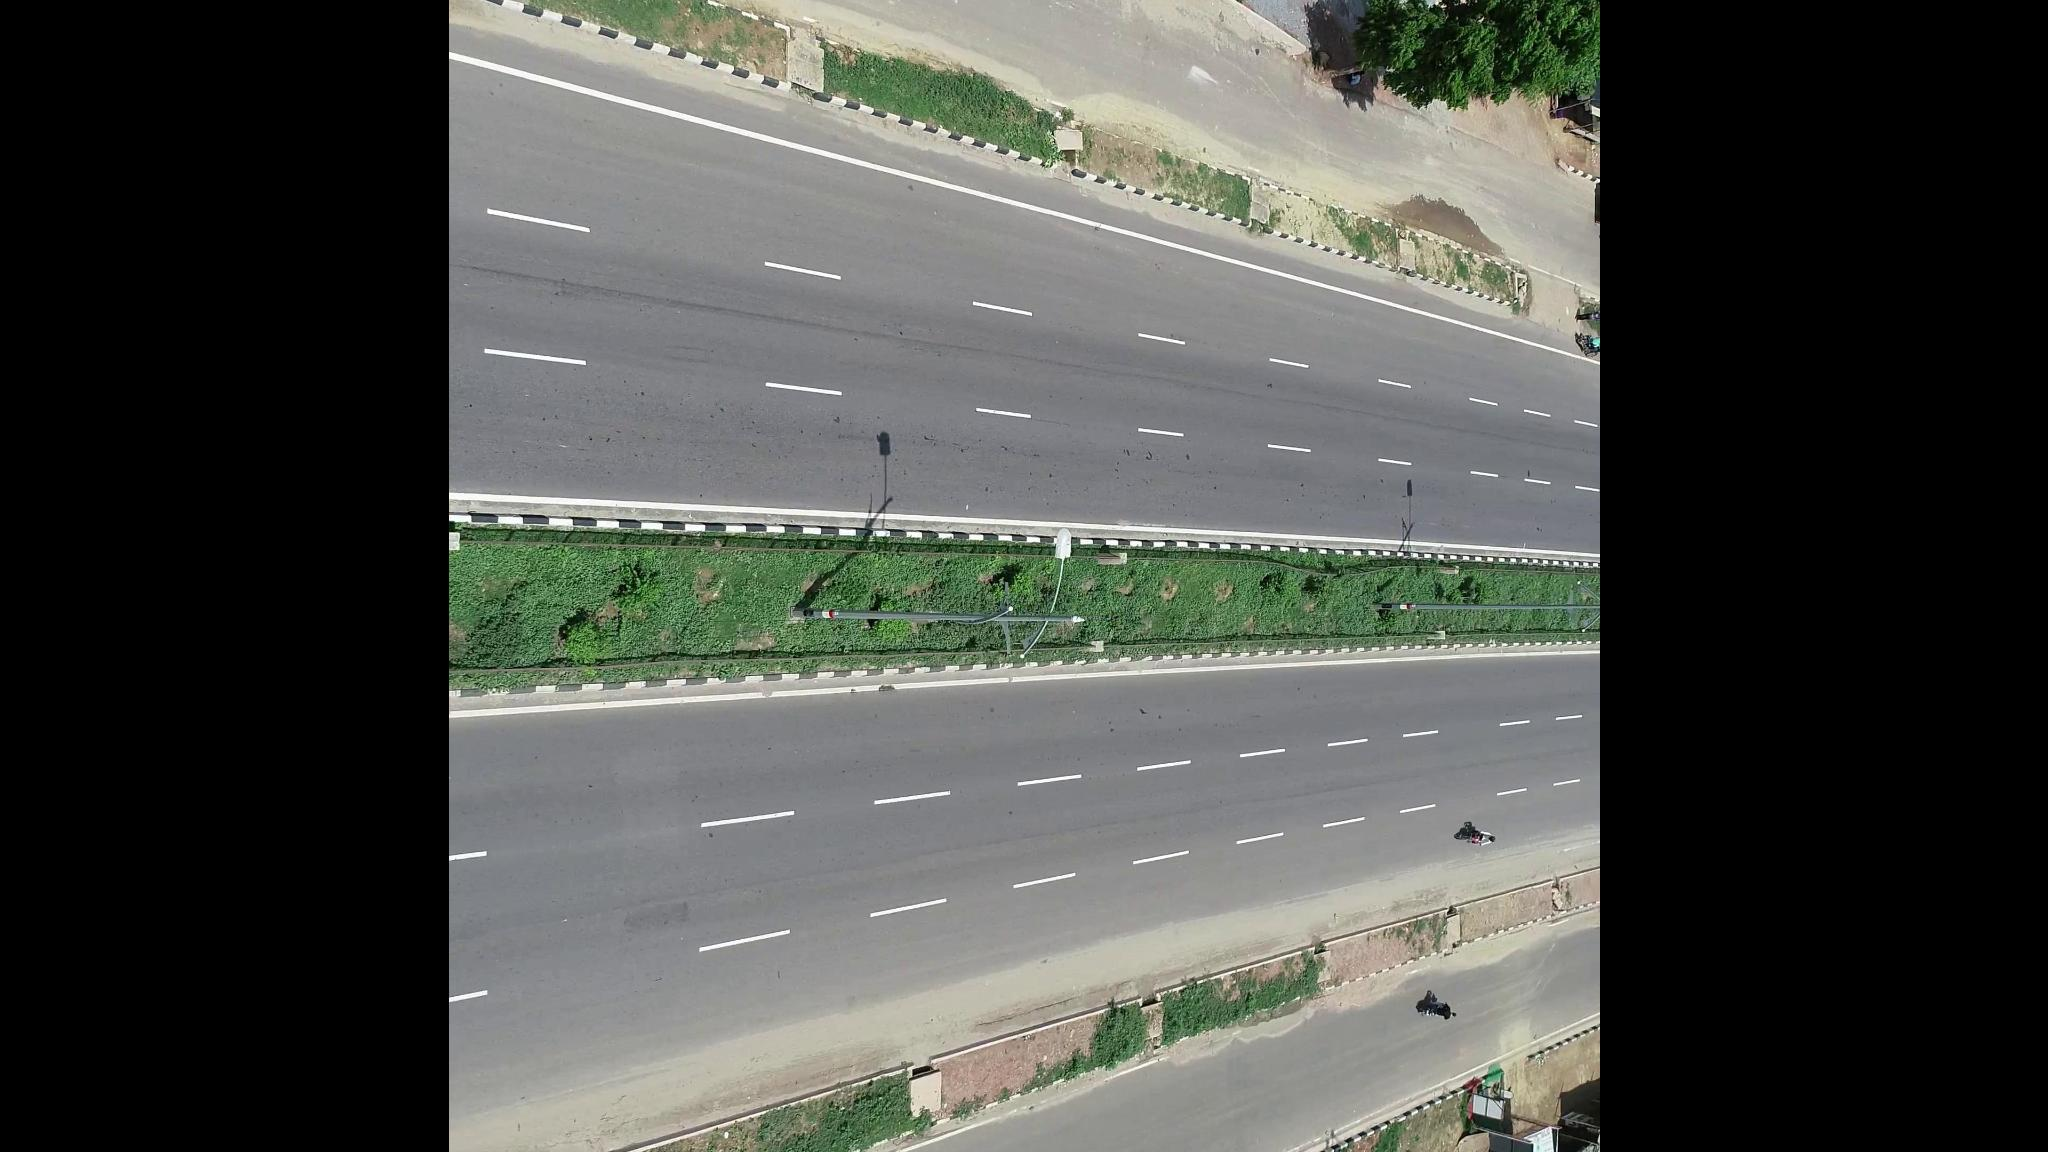Muddy_road: (632, 1030, 852, 1132), (899, 944, 1099, 1039), (1255, 866, 1438, 942), (1096, 924, 1252, 986), (459, 1099, 594, 1152)
